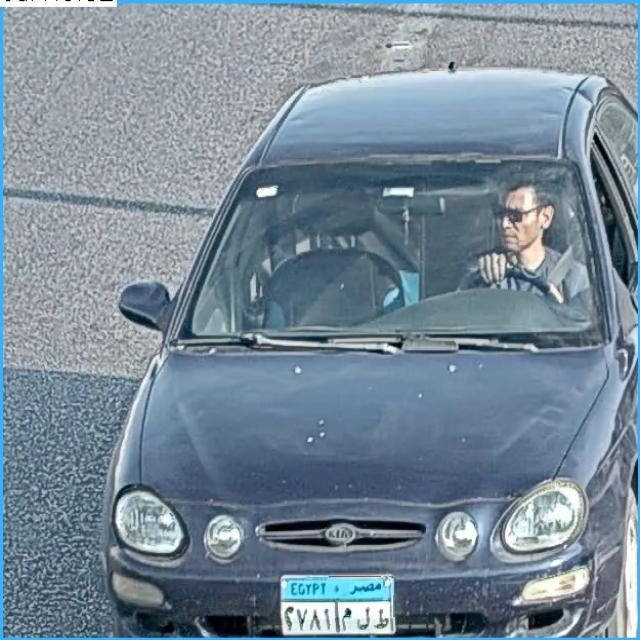windshield: (186, 159, 589, 346)
